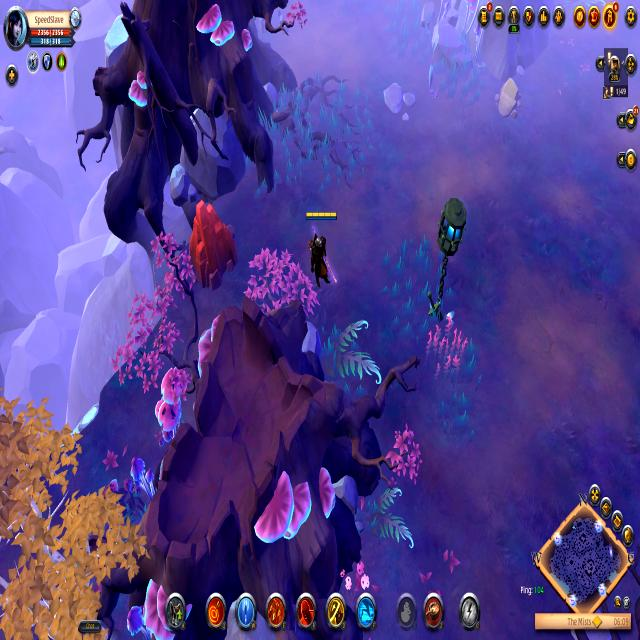10: (423, 191, 473, 332)
red: (302, 204, 340, 293)
tree: (187, 194, 240, 290)
wisp caged: (0, 460, 149, 639)
